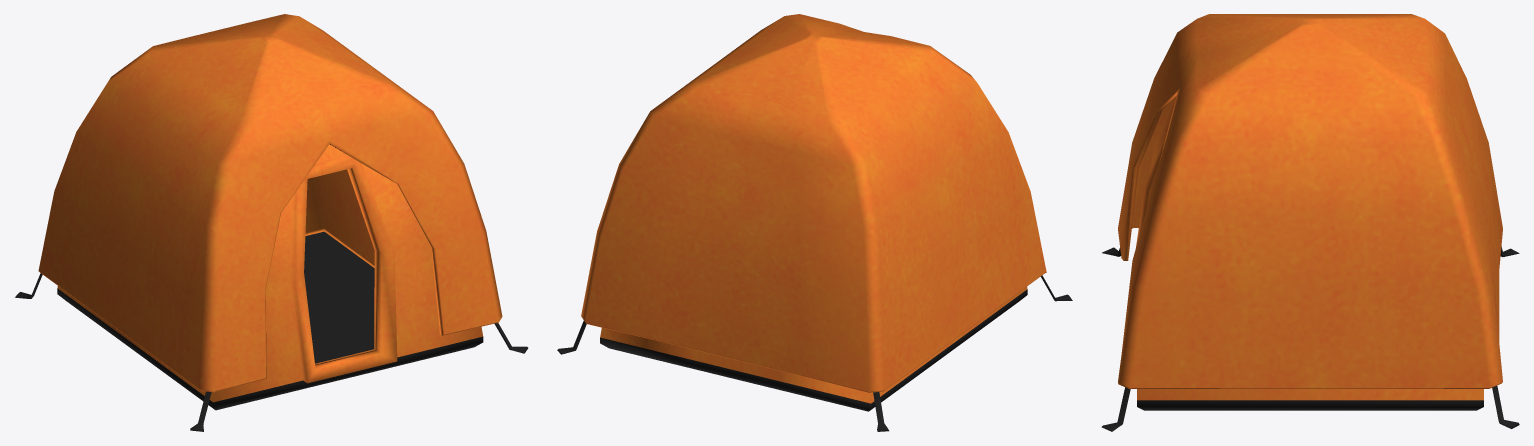
Rendered from tent.fbx.
3 views of the same model, side by side, from view 1: azimuth 30°, elevation 25°; view 2: azimuth 150°, elevation 25°; view 3: azimuth 270°, elevation 25° (orthographic). The views are drawn at different scales.
Parts seen in each view (by area): view 1: tentCover, tent, tentGrommets; view 2: tentCover, tent, tentGrommets; view 3: tentCover, tent, tentGrommets.
Part boxes in pixels (bbox=[...]): tentCover: bbox=[38, 14, 502, 392]; tent: bbox=[57, 145, 483, 410]; tentGrommets: bbox=[15, 273, 528, 431]; tentCover: bbox=[581, 14, 1046, 392]; tent: bbox=[600, 287, 1027, 411]; tentGrommets: bbox=[557, 275, 1072, 431]; tentCover: bbox=[1118, 14, 1502, 389]; tent: bbox=[1136, 102, 1483, 410]; tentGrommets: bbox=[1101, 246, 1519, 431].
Size of the model in its own units: 366 by 296 by 352.
